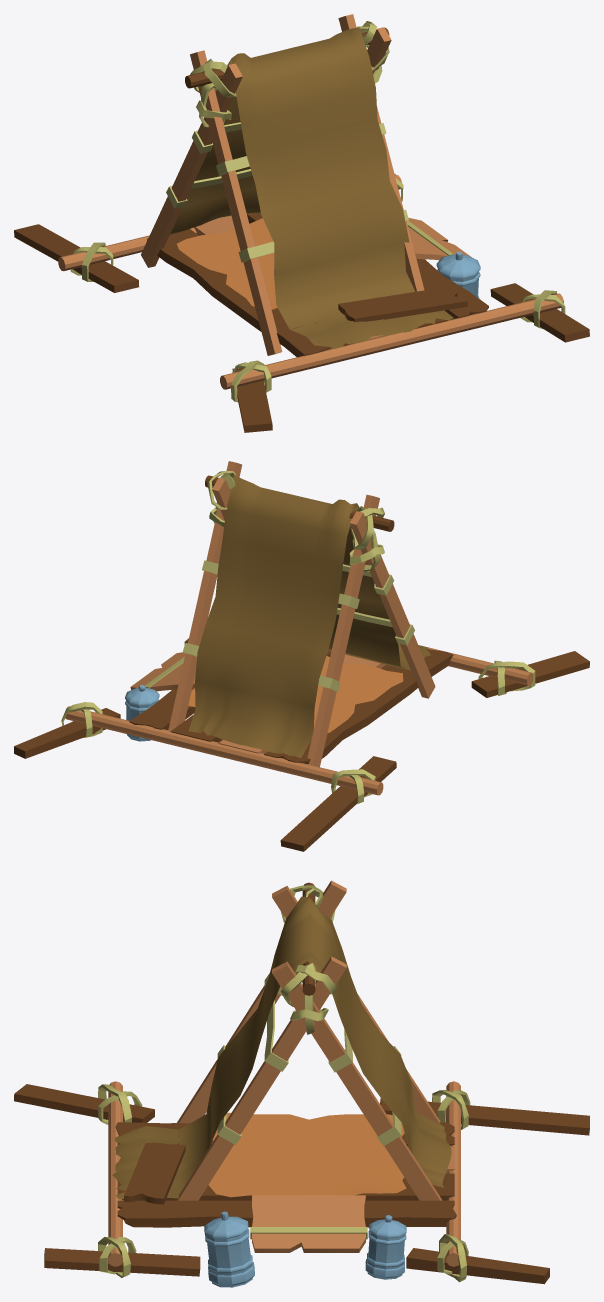
File: Main_Building-shifted.fbx
3 renders of one model, top to bottom at view 1: azimuth 30°, elevation 25°; view 2: azimuth 150°, elevation 25°; view 3: azimuth 270°, elevation 25°, orthographic. The views are drawn at different scales.
Parts seen in each view (by area): view 1: Main_Building; view 2: Main_Building; view 3: Main_Building.
Part boxes in pixels (bbox=[...]): Main_Building: bbox=[14, 14, 589, 432]; Main_Building: bbox=[14, 461, 589, 851]; Main_Building: bbox=[14, 880, 589, 1287].
Bounding box in the file's own units: 70.28 × 50.31 × 89.83.
